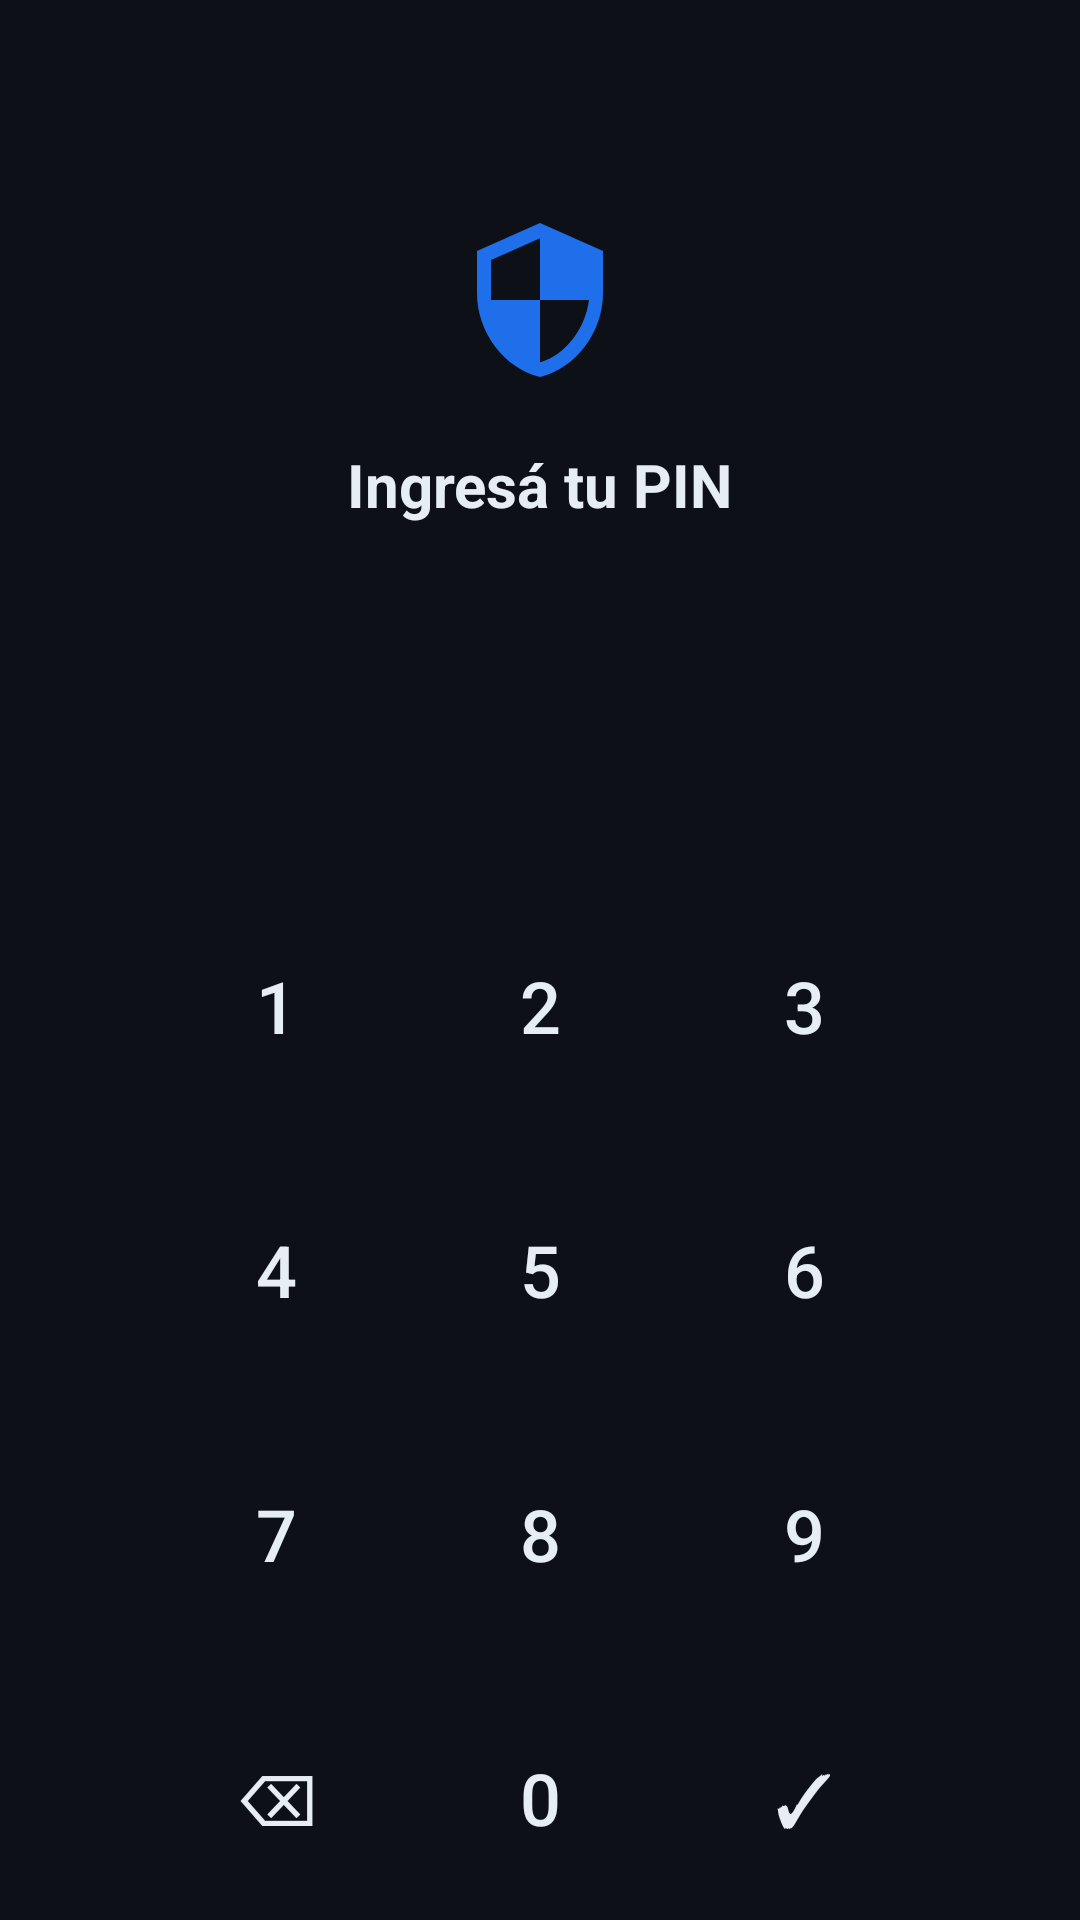

Icons on this 1080w x 1920h Android screen, each with the point to tap as (x=x, y=y):
shield: (x=540, y=300)
